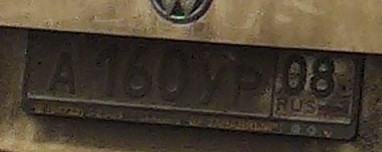character: (122, 43, 153, 102), (48, 49, 80, 99), (232, 59, 262, 111), (199, 53, 228, 106), (159, 48, 186, 100), (97, 42, 120, 99), (282, 53, 306, 99), (310, 55, 334, 99)
